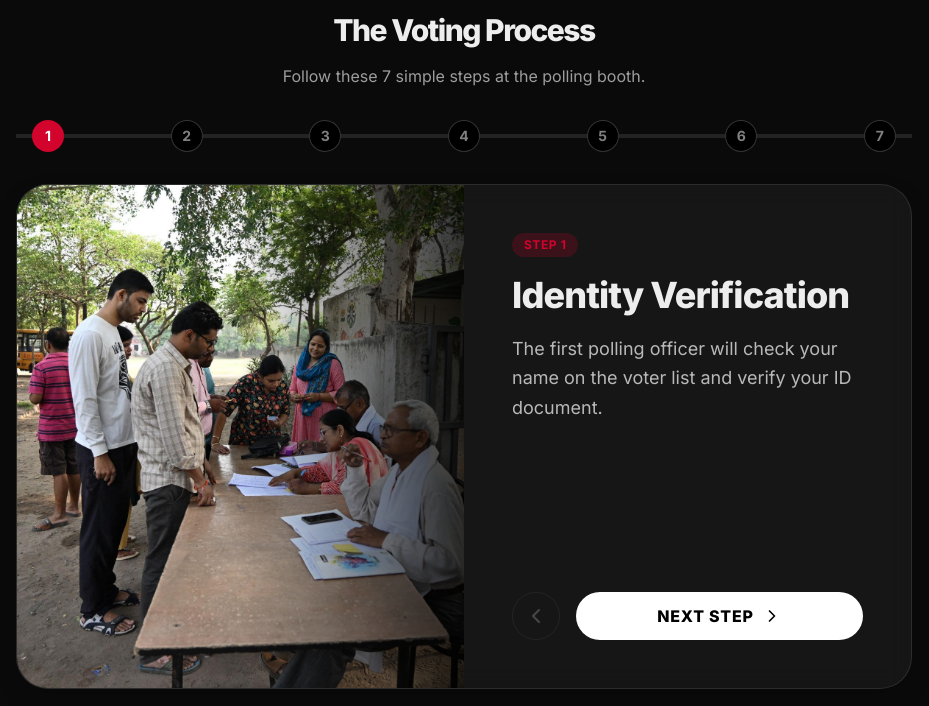
Test: VotingProcess › should navigate to the next step and previous step
Expected: the heading "Identity Verification" is shown, x1=512 y1=273 x2=863 y2=318
# Click Next Step
Click the button "Next Step" at point(720, 616), box x1=576 y1=592 x2=863 y2=640
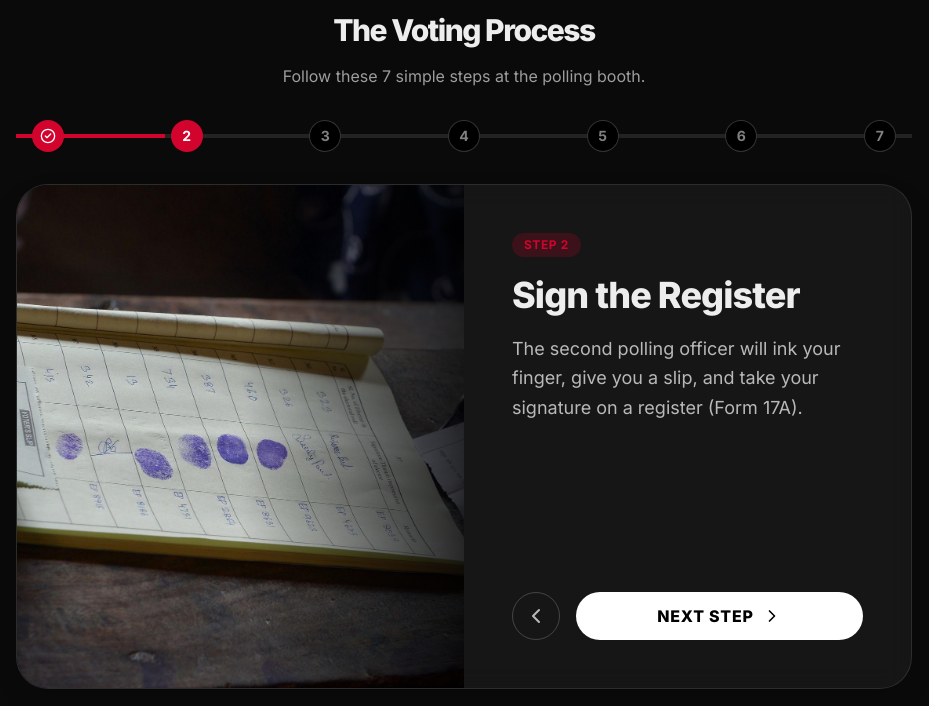
Expected: the heading "Sign the Register" is shown, x1=512 y1=273 x2=800 y2=317
# The previous button is the one before "Next Step"
Click the button without text below "Sign the Register" at point(536, 616), box x1=512 y1=592 x2=560 y2=640
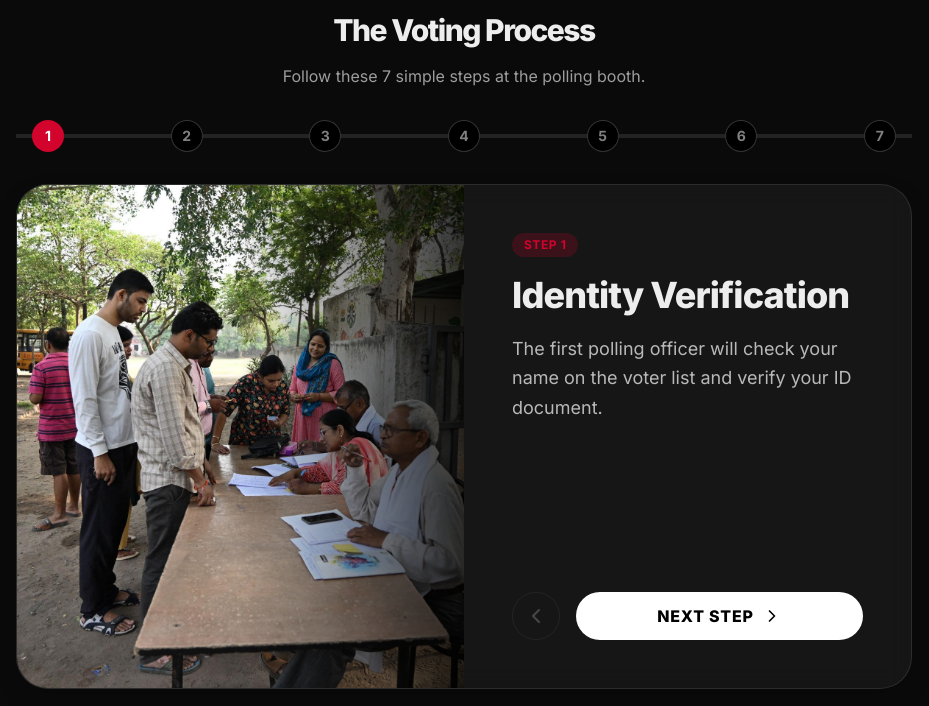
Expected: the heading "Identity Verification" is shown, x1=512 y1=273 x2=863 y2=318
